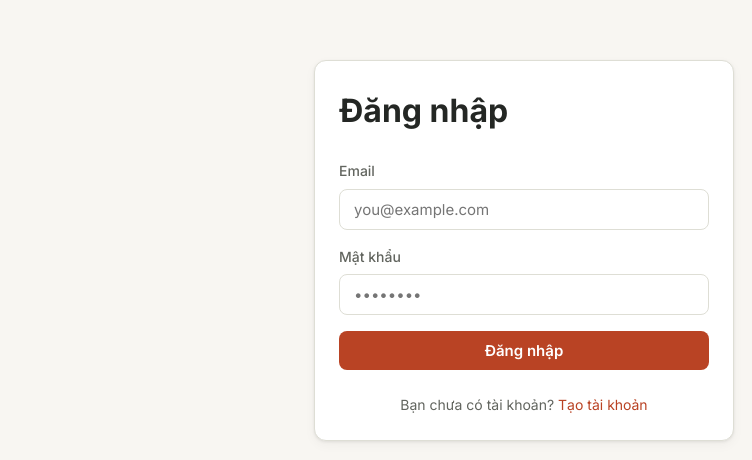
Test: existing unverified users can sign in without confirmation UI
The image size is (752, 460).
Type "collector@gmail.com" into the field labelled "Email".
click(524, 209); type("collector@gmail.com")  # box x1=339 y1=189 x2=709 y2=230
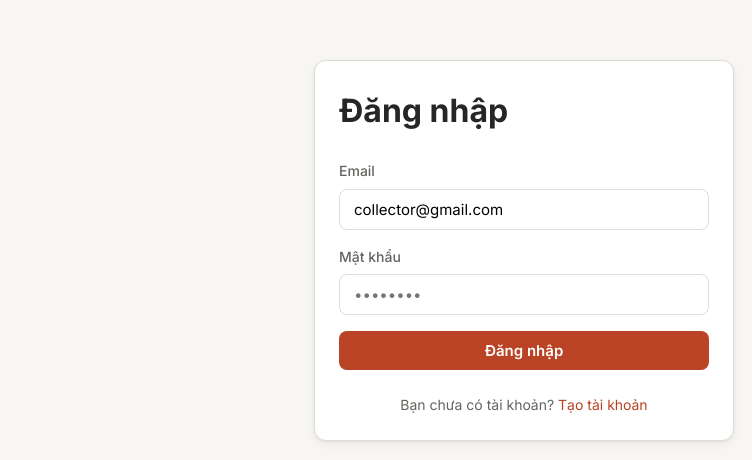
Type "TestPassword123!" into the password field labelled "Mật khẩu".
click(524, 294); type("TestPassword123!")  # box x1=339 y1=274 x2=709 y2=315
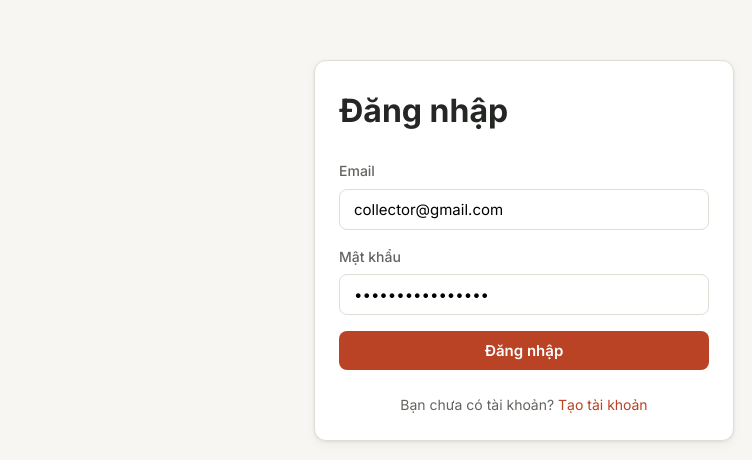
Click the button "Đăng nhập".
click(524, 350)  # box x1=339 y1=331 x2=709 y2=370
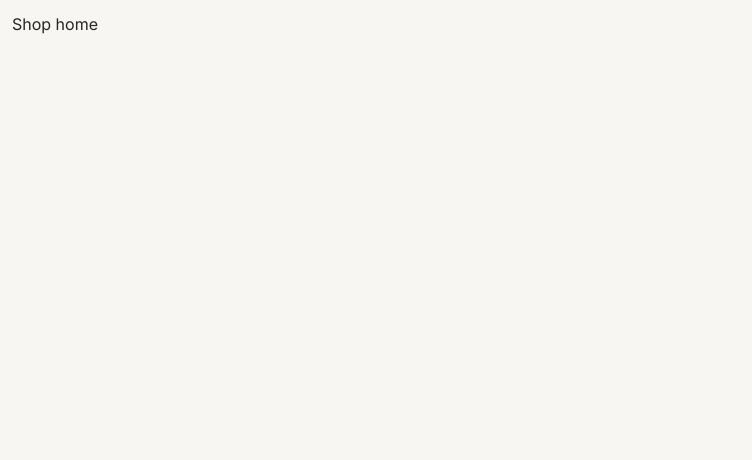
Expected: the text "Shop home" is shown, x1=12 y1=14 x2=98 y2=34
